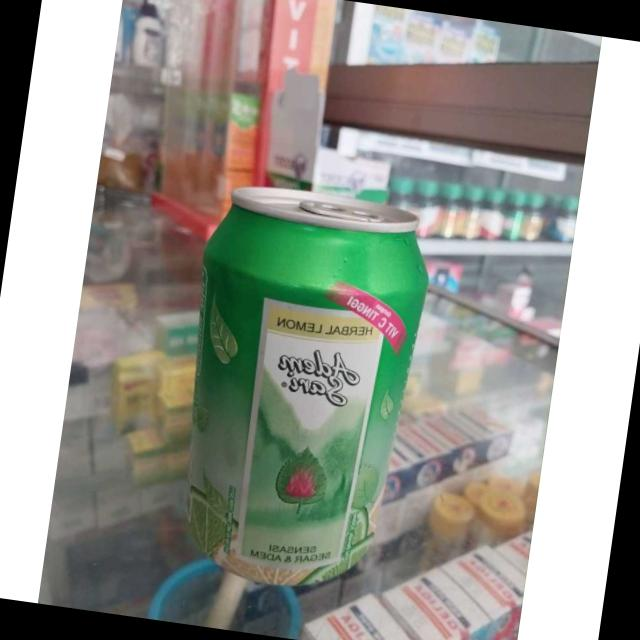ademsarikaleng: (158, 175, 441, 602)
